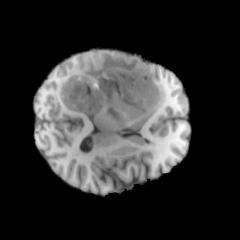glioma: (58, 50, 165, 125)
